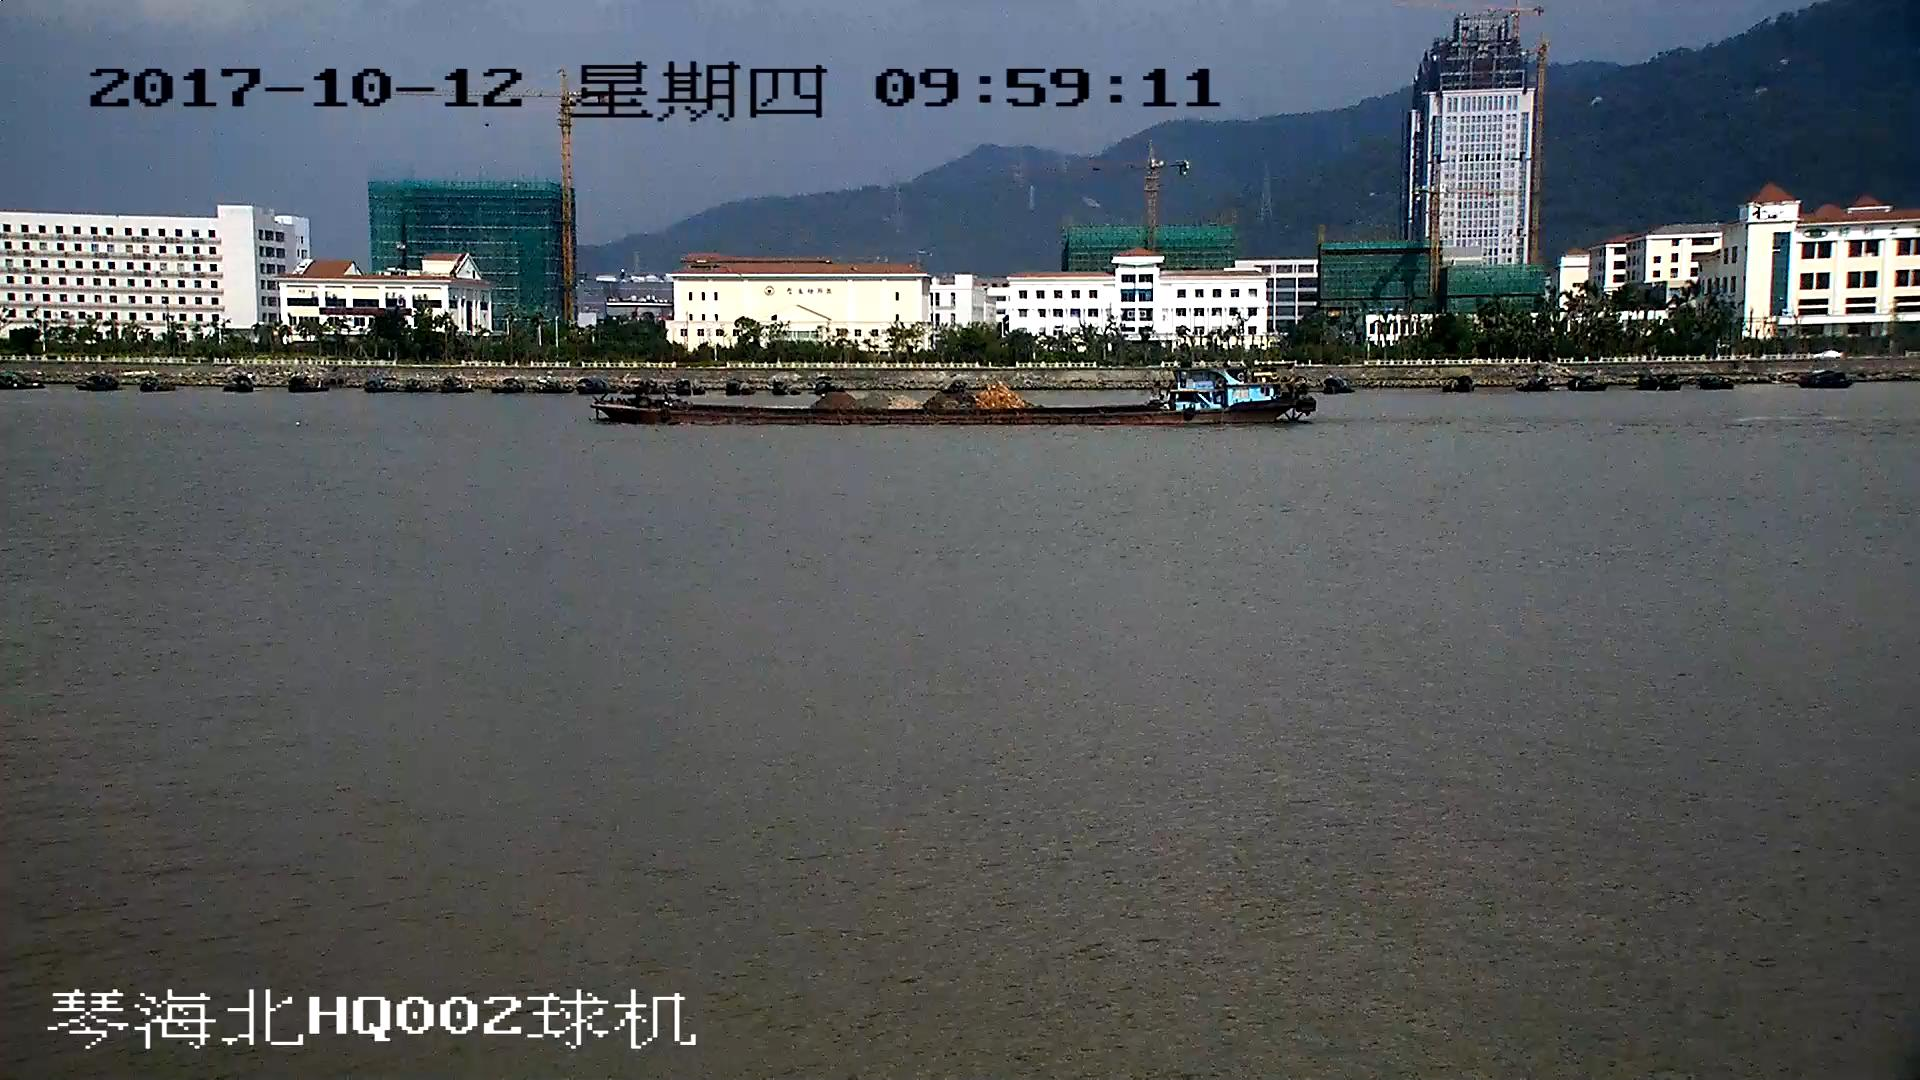ore carrier: (598, 365, 1318, 427)
